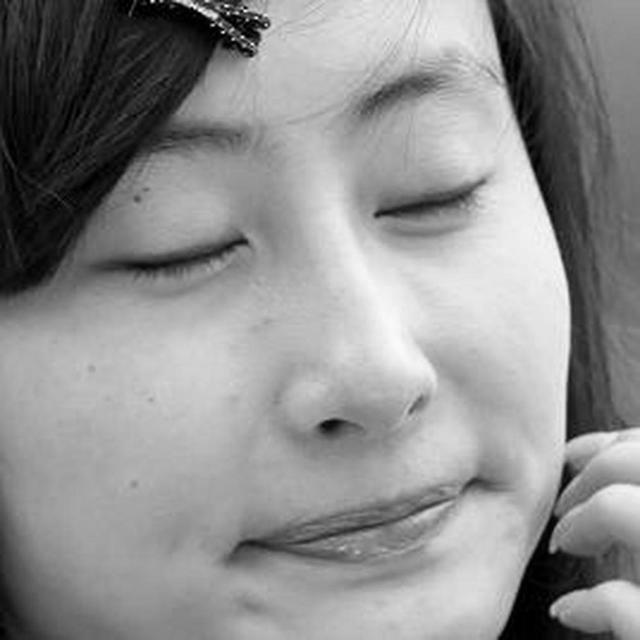real: (0, 0, 567, 640), (90, 124, 498, 311)
